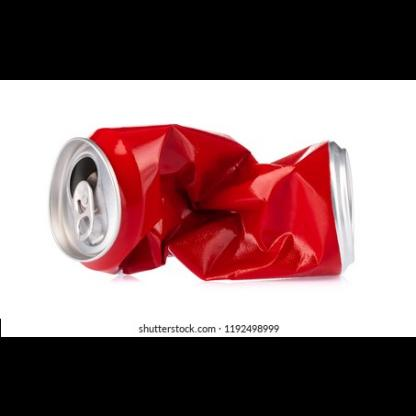Dent_Can: (108, 134, 351, 282), (115, 134, 223, 250), (266, 152, 332, 272)
Lid_Open: (56, 146, 110, 245)
Tin_Can: (31, 122, 369, 288)
